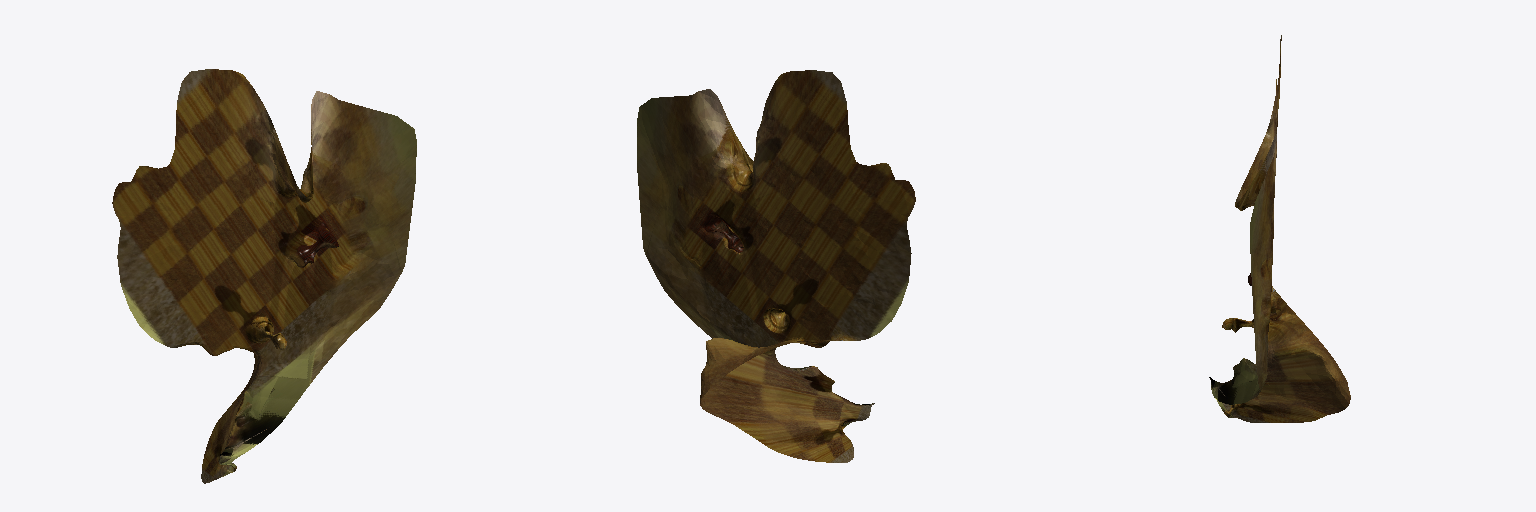
3 views of the same model, side by side, from view 1: azimuth 30°, elevation 25°; view 2: azimuth 150°, elevation 25°; view 3: azimuth 270°, elevation 25° (orthographic).
Size of the model in its own units: 68.37 by 89.54 by 28.89.
2 materials, 1 textured.